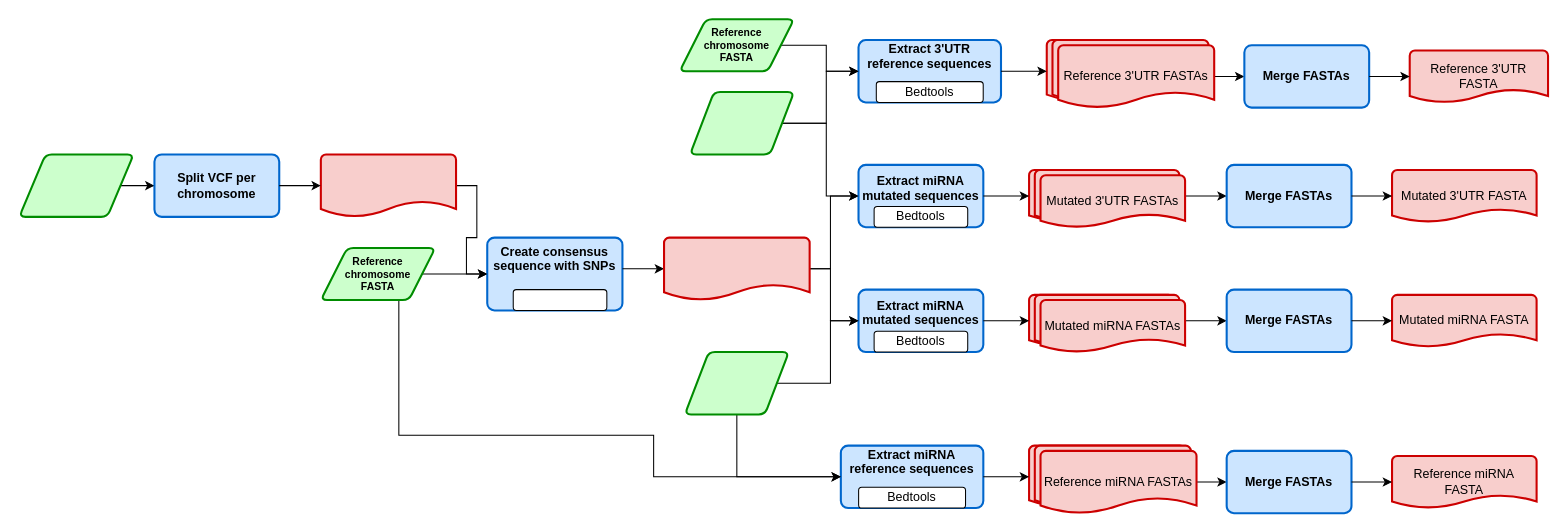
Image size: 1566x531. Some labels were removed from this diagram. The shapes that lost their labels are listed below. From the top down, each one's centre as x and y in pixels, then its label:
At (x=741, y=122): "3'UTR BED".
At (x=76, y=185): "VCF file".
At (x=388, y=185): "chunk VCF".
At (x=736, y=268): "Consensus FASTA".
At (x=559, y=299): "BCFtools".
At (x=736, y=382): "miRNA BED".
